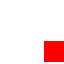square: (44, 41, 64, 61)
